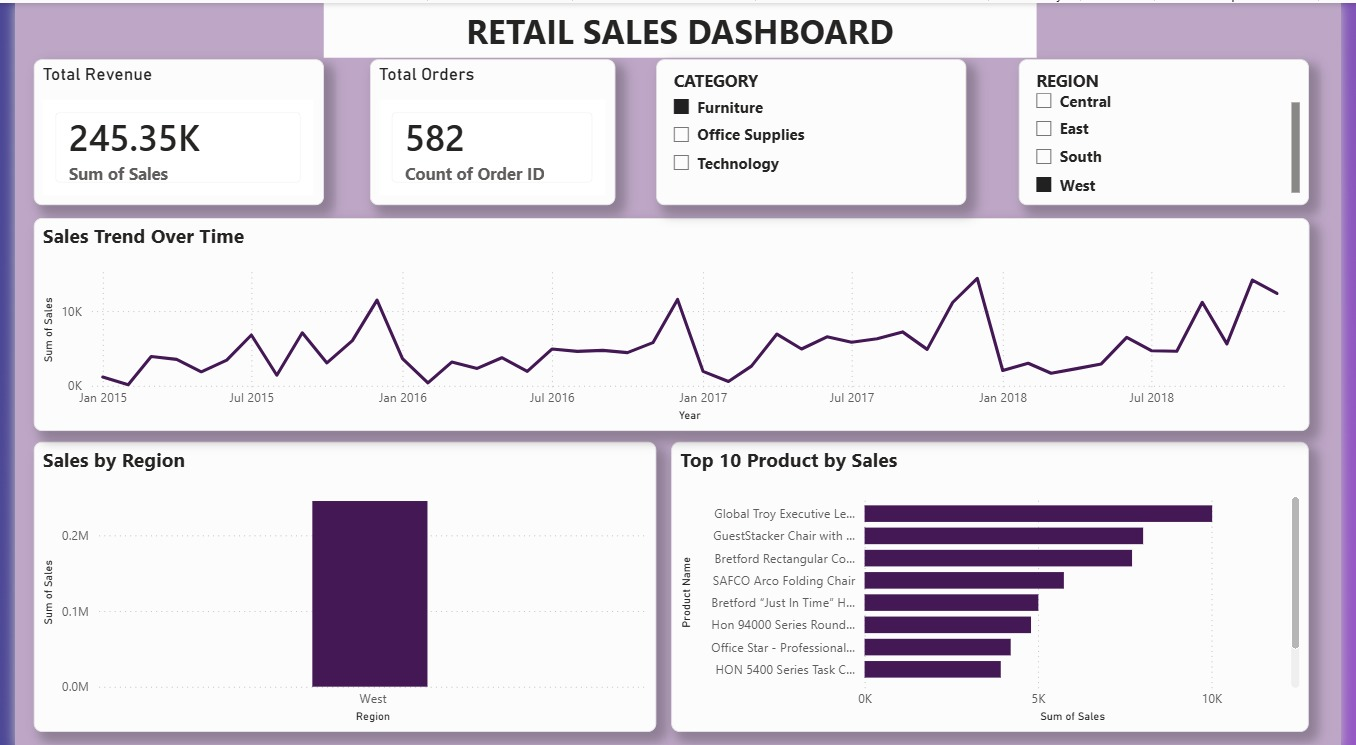

What the dashboard file says about the page in this screenshot:
{"tool":"powerbi","page":{"name":"Page 1","canvas":[1280,720],"ordinal":0},"visuals":[{"type":"cardVisual","title":"Total Revenue","fields":{"Data":["Sum(train.Sales)"]},"box":[18.1,54.3,279.9,141.2],"z":0},{"type":"clusteredColumnChart","title":"Sales by Region","fields":{"Category":["train.Region"],"Y":["Sum(train.Sales)"]},"box":[17.9,423.3,600.7,280.2],"z":1000},{"type":"clusteredBarChart","title":"Top 10 Product by Sales","fields":{"Category":["train.Product Name"],"Y":["Sum(train.Sales)"]},"box":[633.4,423.3,615.6,280.2],"z":2000},{"type":"slicer","fields":{"Values":["train.Region"]},"box":[968.8,54.3,279.9,141.2],"z":3000},{"type":"cardVisual","title":"Total Orders","fields":{"Data":["Count(train.Order ID)"]},"box":[342.6,54.3,236.5,141.2],"z":4000},{"type":"lineChart","title":"Sales Trend Over Time","fields":{"Y":["Sum(train.Sales)"],"Category":["train.Order Date.Variation.Date Hierarchy.Year","train.Order Date.Variation.Date Hierarchy.Quarter","train.Order Date.Variation.Date Hierarchy.Month","train.Order Date.Variation.Date Hierarchy.Day"]},"box":[17.9,207.2,1231.1,205.7],"z":5000},{"type":"textbox","box":[298,0,687.7,53.1],"z":6000},{"type":"slicer","fields":{"Values":["train.Category"]},"box":[618.9,54.3,299.2,141.2],"z":7000}]}

Visuals, with their boxes in screenshot pixels (x1, y1, x2, y2), scaled from the page's 1280x720 canvas onto the 1356x745 screenshot:
"Total Revenue" cardVisual: l=19, t=56, r=316, b=202
"Sales by Region" clusteredColumnChart: l=19, t=438, r=655, b=728
"Top 10 Product by Sales" clusteredBarChart: l=671, t=438, r=1323, b=728
slicer - train.Region: l=1026, t=56, r=1323, b=202
"Total Orders" cardVisual: l=363, t=56, r=613, b=202
"Sales Trend Over Time" lineChart: l=19, t=214, r=1323, b=427
textbox: l=316, t=0, r=1044, b=55
slicer - train.Category: l=656, t=56, r=973, b=202
